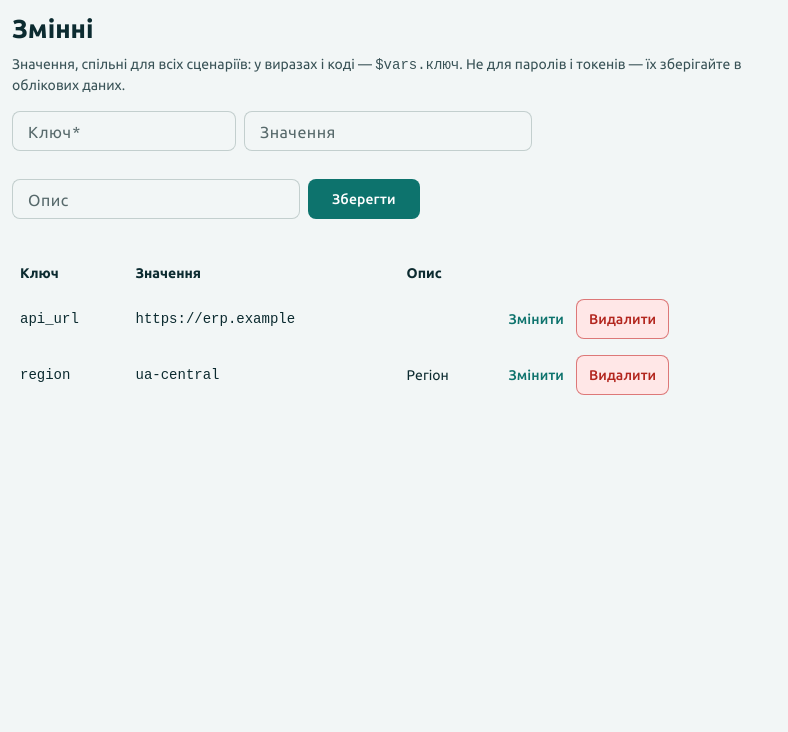
Test: VariablesSection › видалення прибирає рядок; помилка Api показується
This screenshot has width=788, height=732.
Click the button with test id "var-delete" showing "Видалити" at point(623, 375), box [576,355,669,395]
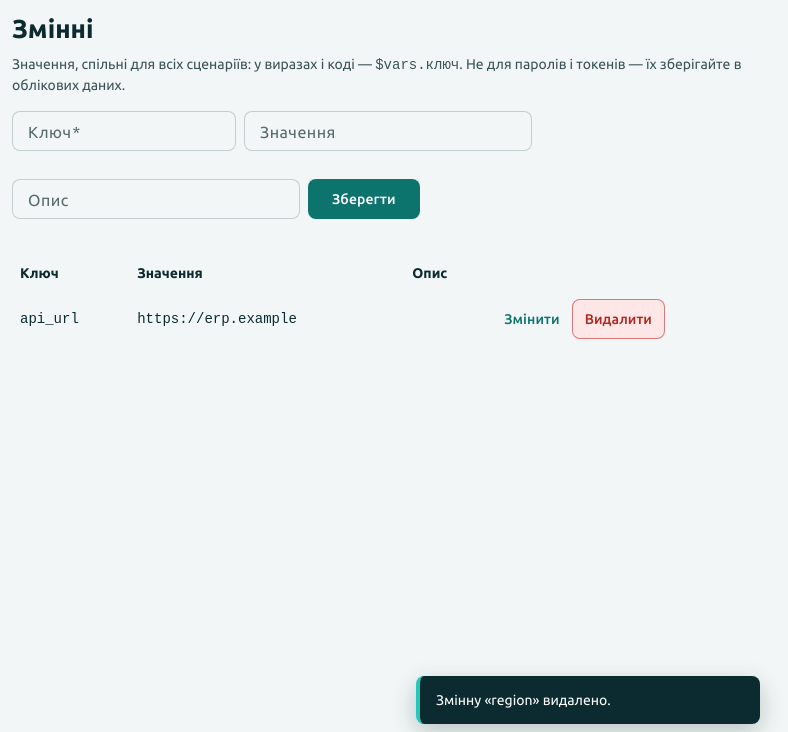
Click the button with test id "var-delete" at point(618, 319), box [572,299,665,339]
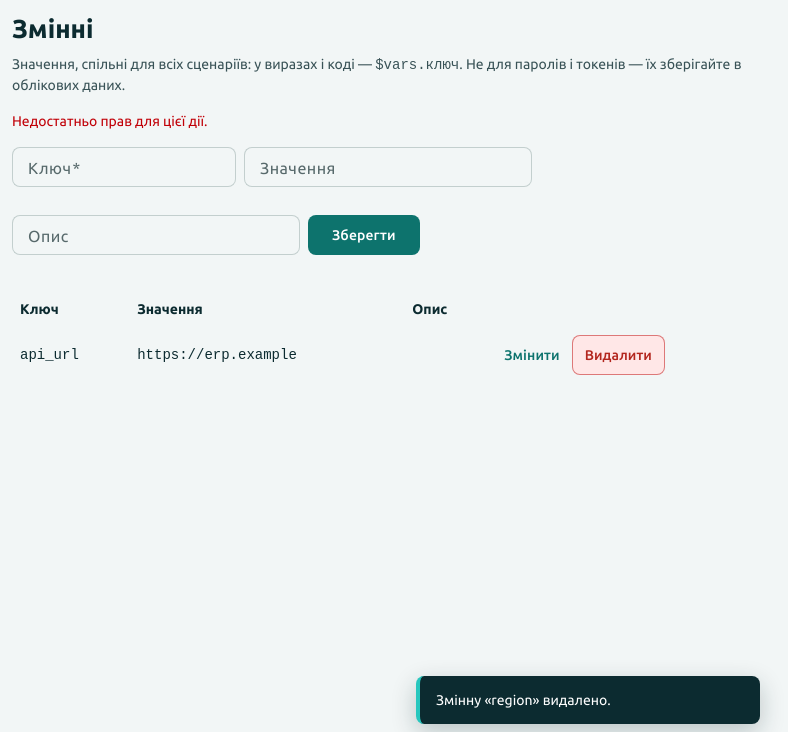
Check: the message with test id "vars-error" shows "прав", box [12,113,208,129]
